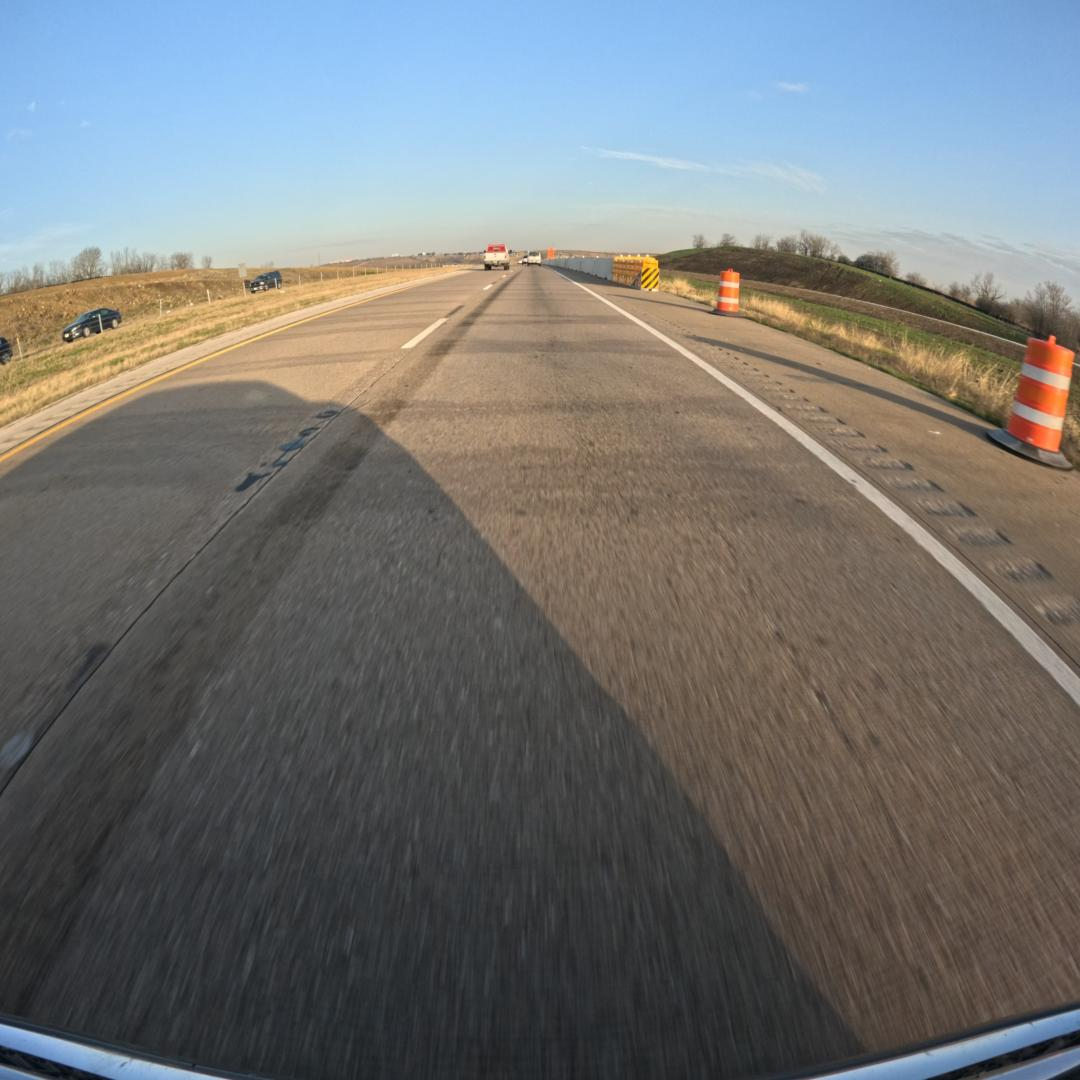lane0: (0, 270, 1080, 1077)
lane1: (0, 268, 503, 790)
